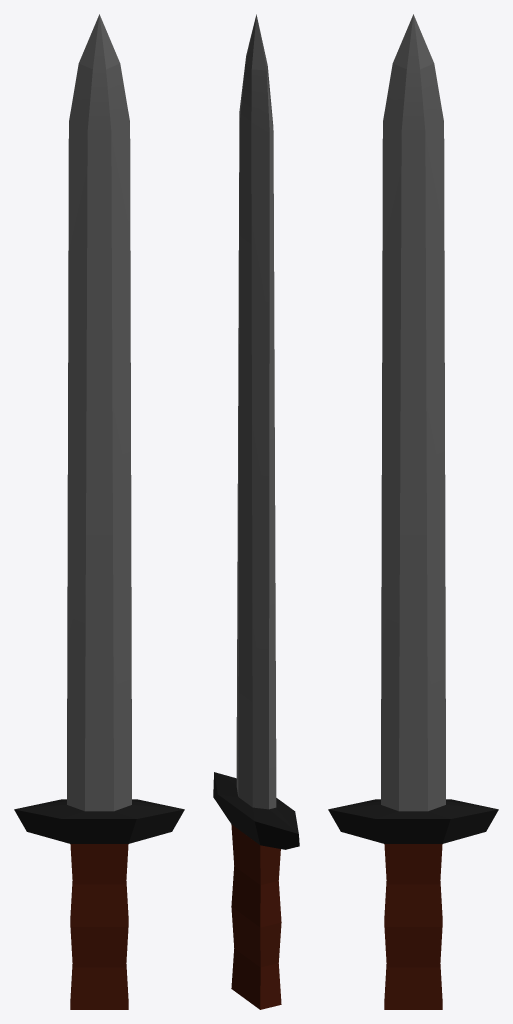
File: longsword.obj
The picture shows the model from 3 angles, left to right: view 1: azimuth 90°, elevation 25°; view 2: azimuth 210°, elevation 25°; view 3: azimuth 270°, elevation 25°; orthographic projection.
Visible parts, largest first — view 1: Sword_Cube.002; view 2: Sword_Cube.002; view 3: Sword_Cube.002.
Part boxes in pixels (bbox=[...]): Sword_Cube.002: bbox=[14, 14, 184, 1009]; Sword_Cube.002: bbox=[213, 14, 299, 1009]; Sword_Cube.002: bbox=[328, 14, 498, 1009].
Bounding box in the file's own units: 0.0695 × 1.61 × 0.2521.
